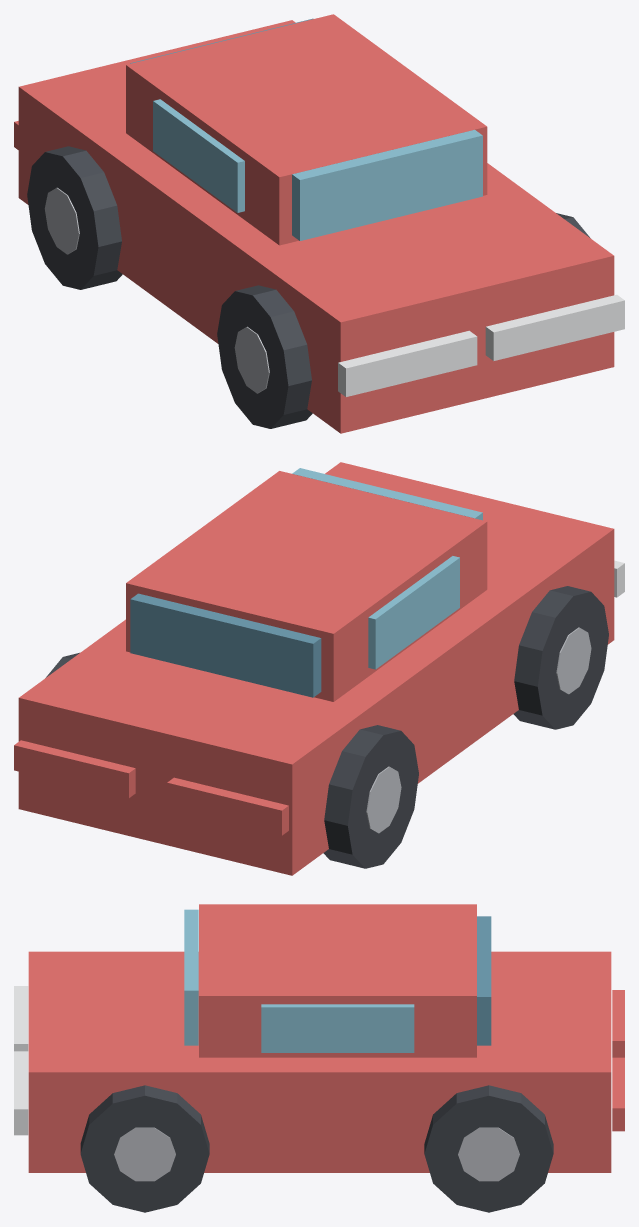
Rendered from traffic_compact_red.glb.
3 renders of one model, top to bottom at view 1: azimuth 30°, elevation 25°; view 2: azimuth 150°, elevation 25°; view 3: azimuth 270°, elevation 25°, orthographic. The views are drawn at different scales.
Parts seen in each view (by area): view 1: body_0, roof_1, windshield_2, wheel_FL_6, wheel_RL_10, side_glass_L_4, headlight_R_15, headlight_L_14, rim_FL_7, rim_RL_11; view 2: body_0, roof_1, rear_glass_3, wheel_RL_10, wheel_FL_6, side_glass_L_4, taillight_R_17, taillight_L_16, rim_RL_11, rim_FL_7, windshield_2; view 3: body_0, roof_1, wheel_FR_8, wheel_RR_12, side_glass_R_5, rim_RR_13, rim_FR_9, windshield_2, rear_glass_3, headlight_R_15, headlight_L_14, taillight_R_17 (+1 smaller).
Part boxes in pixels (box(x1,y1,x2,y2)): body_0: box(18, 20, 614, 433); roof_1: box(126, 14, 487, 245); windshield_2: box(292, 129, 482, 240); wheel_FL_6: box(217, 285, 312, 428); wheel_RL_10: box(27, 146, 122, 289); side_glass_L_4: box(153, 99, 244, 212); headlight_R_15: box(485, 294, 624, 360); headlight_L_14: box(338, 330, 477, 396); rim_FL_7: box(234, 326, 269, 393); rim_RL_11: box(44, 187, 79, 254); body_0: box(18, 462, 614, 875); roof_1: box(126, 471, 487, 701); rear_glass_3: box(130, 593, 321, 697); wheel_RL_10: box(323, 725, 418, 868); wheel_FL_6: box(513, 586, 608, 729); side_glass_L_4: box(368, 556, 459, 669); taillight_R_17: box(14, 740, 135, 798); taillight_L_16: box(167, 777, 288, 835); rim_RL_11: box(366, 766, 401, 833); rim_FL_7: box(556, 627, 591, 694); windshield_2: box(292, 468, 482, 520); body_0: box(28, 951, 611, 1172); roof_1: box(199, 904, 476, 1057); wheel_FR_8: box(80, 1085, 209, 1212); wheel_RR_12: box(424, 1085, 553, 1212); side_glass_R_5: box(261, 1004, 414, 1052); rim_RR_13: box(458, 1127, 519, 1181); rim_FR_9: box(114, 1127, 175, 1181); windshield_2: box(184, 909, 198, 1045); rear_glass_3: box(477, 916, 491, 1045); headlight_R_15: box(14, 1051, 28, 1135); headlight_L_14: box(14, 986, 28, 1051); taillight_R_17: box(612, 1057, 624, 1131).
Size of the model in its own units: 1.88 by 1.18 by 3.41.
